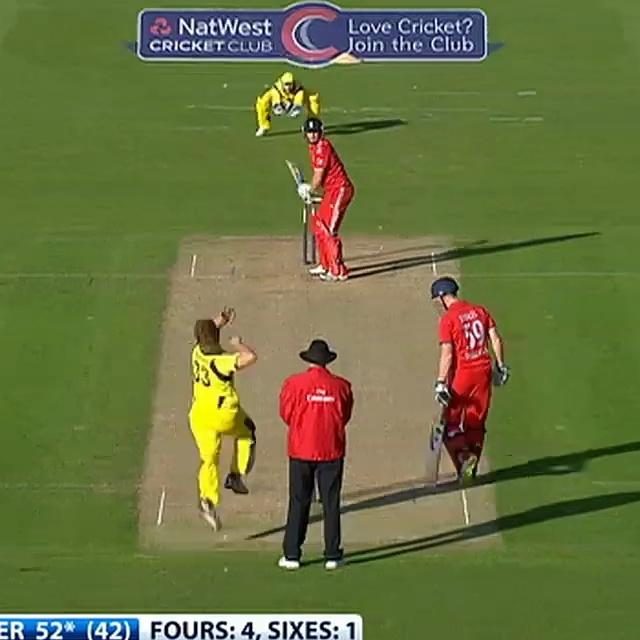umpire: (267, 331, 366, 573)
